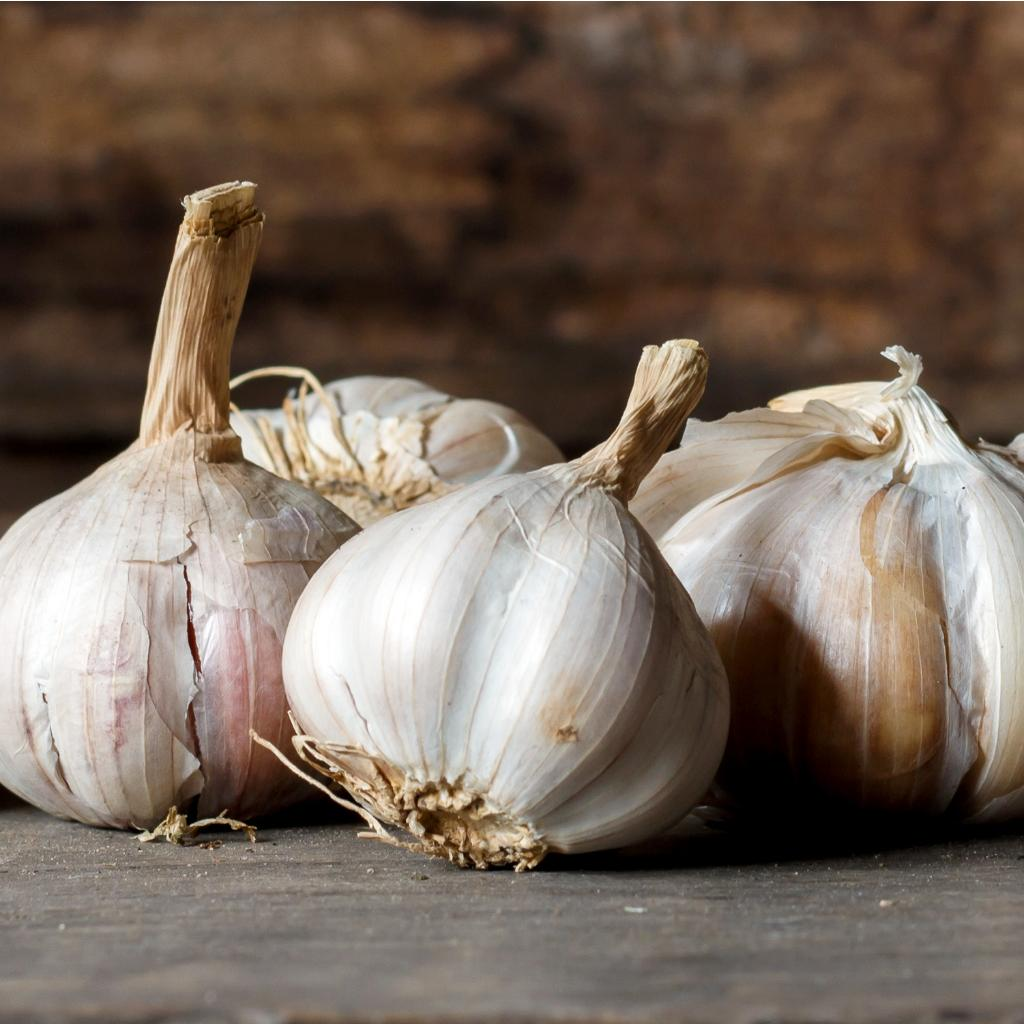garlic: (282, 338, 728, 868), (0, 181, 357, 826), (630, 345, 1023, 820), (230, 365, 562, 525)
